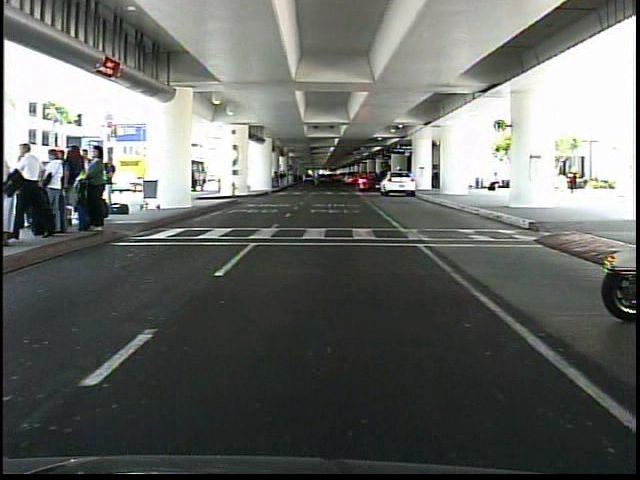person: (561, 159, 584, 199), (486, 167, 503, 198)
